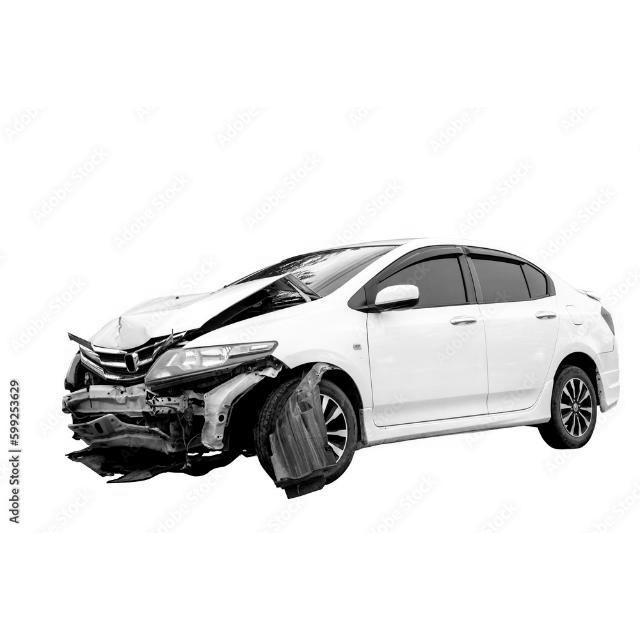bonnet-dent: (84, 272, 309, 362)
front-bumper-dent: (64, 356, 296, 480)
